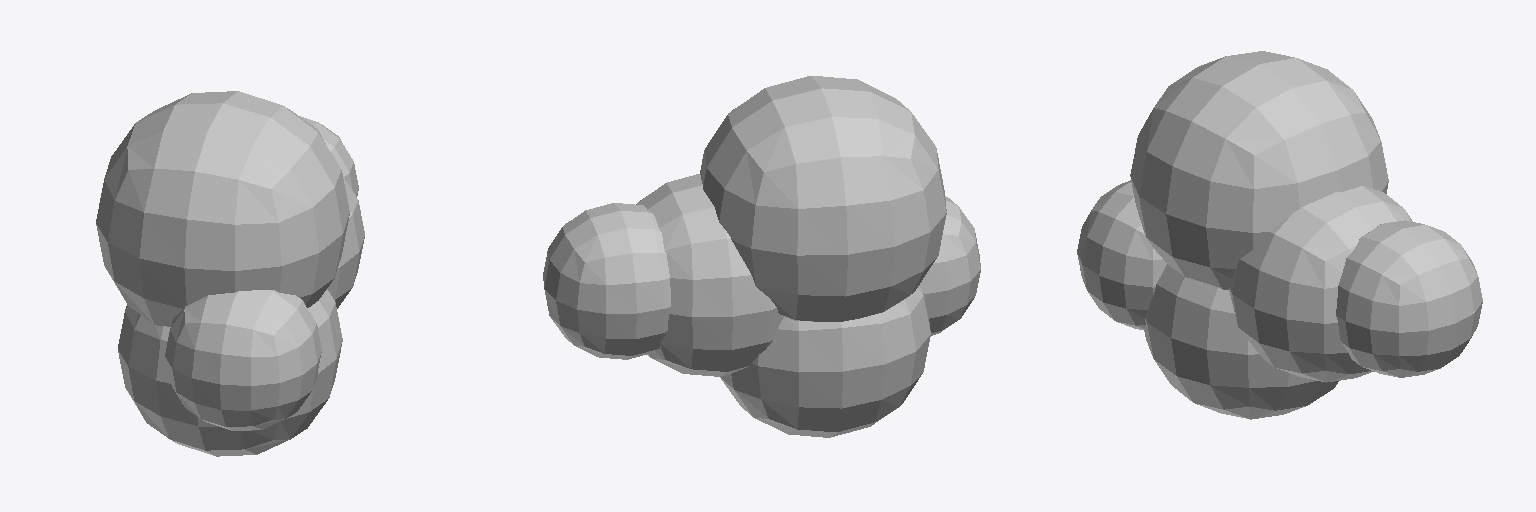
Rendered from cloud2.obj.
3 views of the same model, side by side, from view 1: azimuth 30°, elevation 25°; view 2: azimuth 150°, elevation 25°; view 3: azimuth 270°, elevation 25° (orthographic).
Parts seen in each view (by area): view 1: cloud2; view 2: cloud2; view 3: cloud2.
Boxes of the visible parts, x1,y1,x2,y2 form: cloud2: [96, 91, 364, 456]; cloud2: [543, 76, 980, 437]; cloud2: [1077, 51, 1482, 419].
Bounding box in the file's own units: 2.85 × 2.99 × 3.22.